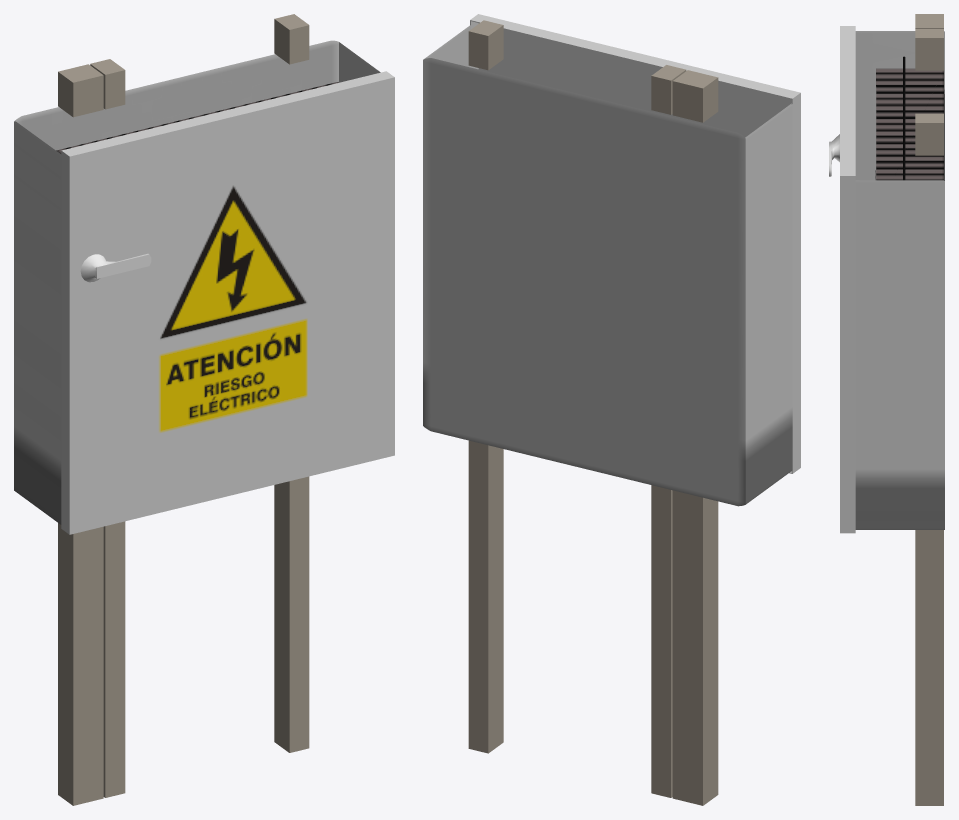
Rendered from TableroElectricoCentrado.fbx.
3 views of the same model, side by side, from view 1: azimuth 30°, elevation 25°; view 2: azimuth 150°, elevation 25°; view 3: azimuth 270°, elevation 25° (orthographic). The views are drawn at different scales.
Parts seen in each view (by area): view 1: Tablero_Electrico_A_Mesh.002, Tablero_Electrico_B_Mesh001; view 2: Tablero_Electrico_B_Mesh001, Tablero_Electrico_A_Mesh.002; view 3: Tablero_Electrico_B_Mesh001, Tablero_Electrico_A_Mesh.002, Tablero_Electrico_B_Mesh002.
Part boxes in pixels (x1,y1,x2,y2): Tablero_Electrico_A_Mesh.002: (61, 71, 394, 534); Tablero_Electrico_B_Mesh001: (14, 14, 380, 805); Tablero_Electrico_B_Mesh001: (423, 20, 792, 805); Tablero_Electrico_A_Mesh.002: (470, 14, 800, 473); Tablero_Electrico_B_Mesh001: (855, 14, 944, 805); Tablero_Electrico_A_Mesh.002: (829, 26, 855, 533); Tablero_Electrico_B_Mesh002: (875, 56, 944, 180).
Bounding box in the file's own units: 136 × 289 × 44.41.
4 materials, 3 textured.
